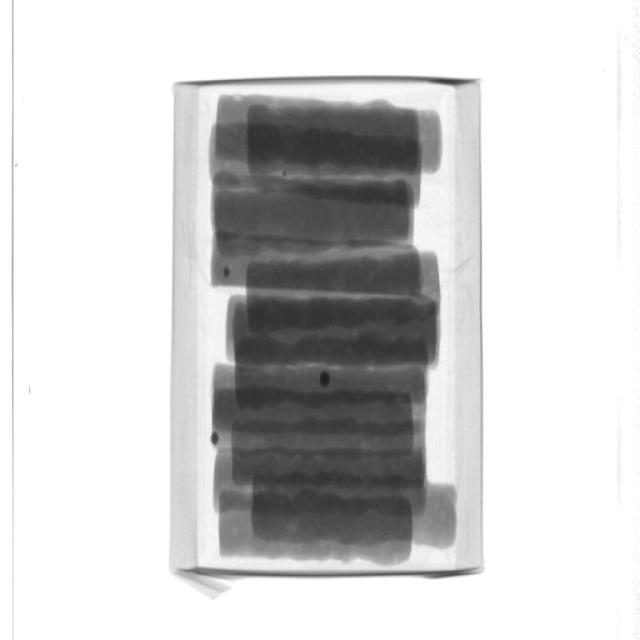ym: (320, 372, 331, 389), (212, 432, 221, 443), (223, 269, 231, 279), (284, 172, 289, 177)
